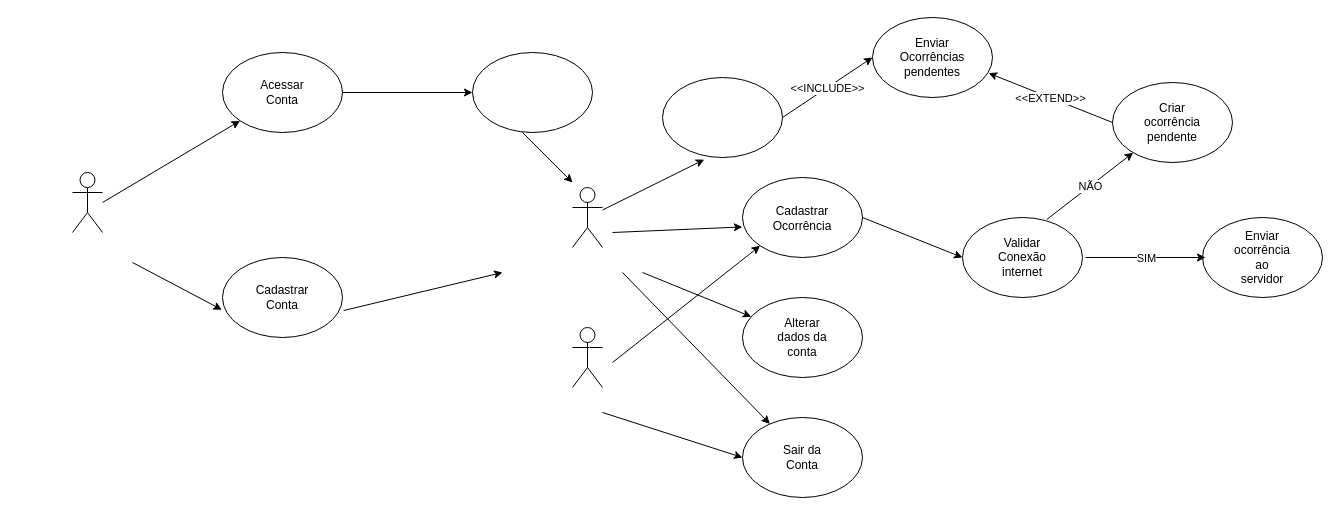
Some shapes in this 1340 by 515 pixel diagram are drawn without their labels. Each missing label, with the box of its shape:
Consultar Ocorrências: (662, 76, 782, 158)
Usuário autenticado OFFLINE: (572, 326, 602, 388)
Usuário autenticado ONLINE: (572, 186, 602, 248)
Usuário não autenticado: (72, 172, 102, 232)
Validar Autenticação: (472, 52, 592, 132)
